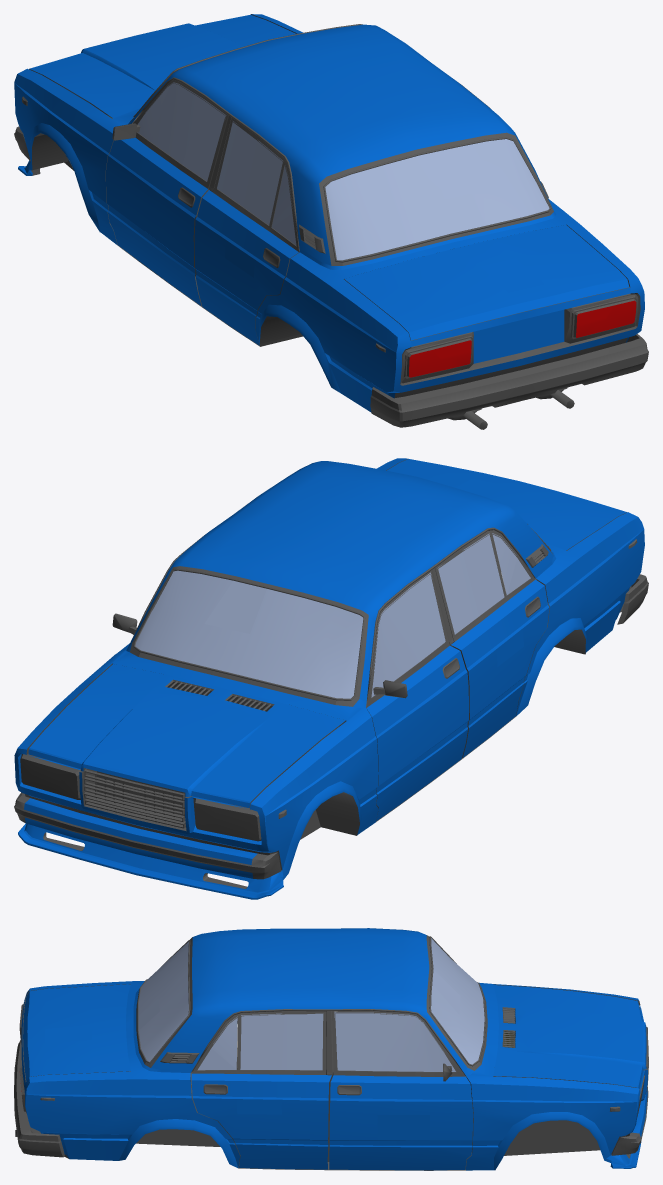
Rendered from Classic_Car_01.fbx.
3 renders of one model, top to bottom at view 1: azimuth 30°, elevation 25°; view 2: azimuth 150°, elevation 25°; view 3: azimuth 270°, elevation 25°, orthographic. The views are drawn at different scales.
Visible parts, largest first — view 1: Classic_Base, Classic_Trunk, Classic_Door_01, Classic_Door_04, Classic_Hood; view 2: Classic_Base, Classic_Hood, Classic_Door_01, Classic_Door_04, Classic_Trunk; view 3: Classic_Base, Classic_Door_02, Classic_Door_03, Classic_Hood, Classic_Trunk.
Boxes of the visible parts, x1,y1,x2,y2 form: Classic_Base: (14, 14, 648, 429); Classic_Trunk: (344, 224, 629, 340); Classic_Door_01: (106, 79, 228, 305); Classic_Door_04: (194, 118, 299, 345); Classic_Hood: (29, 14, 295, 118); Classic_Base: (14, 458, 648, 899); Classic_Hood: (28, 664, 345, 808); Classic_Door_01: (366, 570, 468, 821); Classic_Door_04: (435, 530, 549, 757); Classic_Trunk: (387, 459, 627, 550); Classic_Base: (14, 928, 648, 1170); Classic_Door_02: (329, 1010, 473, 1170); Classic_Door_03: (191, 1011, 331, 1169); Classic_Hood: (493, 985, 646, 1088); Classic_Trunk: (23, 984, 130, 1080).
Bounding box in the file's own units: 203 × 137 × 474.
